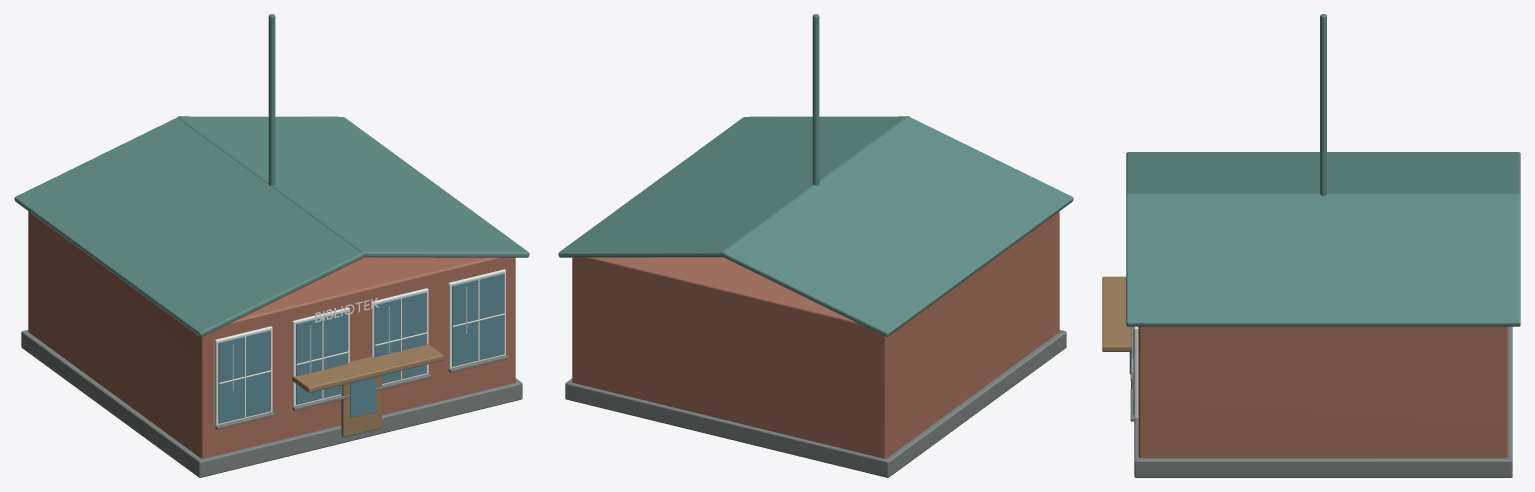
The model's file is bibliotek.glb.
3 renders of one model, left to right at view 1: azimuth 30°, elevation 25°; view 2: azimuth 150°, elevation 25°; view 3: azimuth 270°, elevation 25°, orthographic. The views are drawn at different scales.
Visible parts, largest first — view 1: Brick library, Left pitched roof.001, Right pitched roof.001, Stone base, Insulated glazing.026, Insulated glazing.029, Insulated glazing.027, Insulated glazing.028, Reading room canopy, Ridge cap.001, Library entry, Library entry glass (+4 smaller); view 2: Brick library, Left pitched roof.001, Right pitched roof.001, Stone base, Ridge cap.001; view 3: Right pitched roof.001, Brick library, Left pitched roof.001, Stone base, Reading room canopy, Ridge cap.001, Window reveal.029.
Boxes of the visible parts, x1,y1,x2,y2 form: Brick library: [28, 211, 515, 458]; Left pitched roof.001: [14, 116, 366, 337]; Right pitched roof.001: [177, 116, 529, 257]; Stone base: [21, 330, 522, 477]; Insulated glazing.026: [218, 330, 270, 423]; Insulated glazing.029: [452, 273, 504, 366]; Insulated glazing.027: [296, 311, 348, 404]; Insulated glazing.028: [374, 292, 426, 383]; Reading room canopy: [292, 344, 443, 392]; Ridge cap.001: [268, 14, 275, 185]; Library entry: [341, 375, 381, 437]; Library entry glass: [350, 377, 376, 417]; Brick library: [572, 211, 1059, 458]; Left pitched roof.001: [721, 116, 1073, 337]; Right pitched roof.001: [558, 116, 910, 257]; Stone base: [565, 330, 1066, 477]; Ridge cap.001: [812, 14, 819, 185]; Right pitched roof.001: [1126, 193, 1520, 326]; Brick library: [1138, 326, 1508, 458]; Left pitched roof.001: [1126, 152, 1520, 196]; Stone base: [1134, 326, 1512, 477]; Reading room canopy: [1102, 276, 1138, 351]; Ridge cap.001: [1320, 14, 1326, 196]; Window reveal.029: [1134, 326, 1138, 418].
Size of the model in its own units: 13.86 by 14.39 by 14.38.
